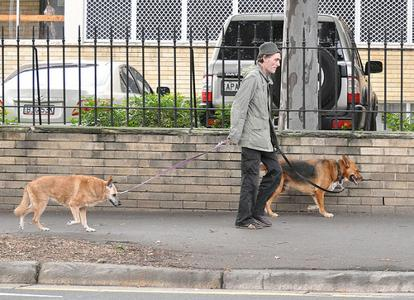person: (231, 41, 281, 231)
